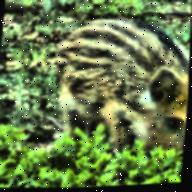boar: (46, 7, 191, 161)
